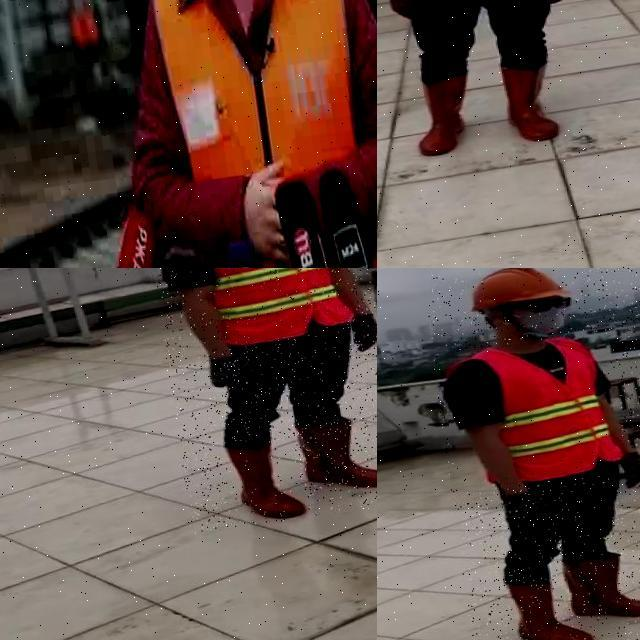boots: (220, 434, 310, 526), (293, 410, 377, 499), (558, 540, 640, 626), (497, 569, 595, 640), (410, 76, 477, 158), (502, 60, 564, 146)
helmet: (462, 268, 565, 313)
vest: (138, 0, 377, 268), (439, 331, 624, 494), (172, 268, 358, 354)
